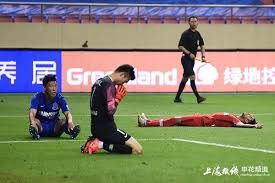fall: (24, 71, 81, 144)
